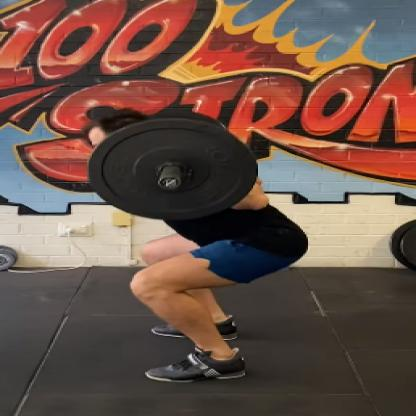Barbell: (81, 118, 267, 224)
